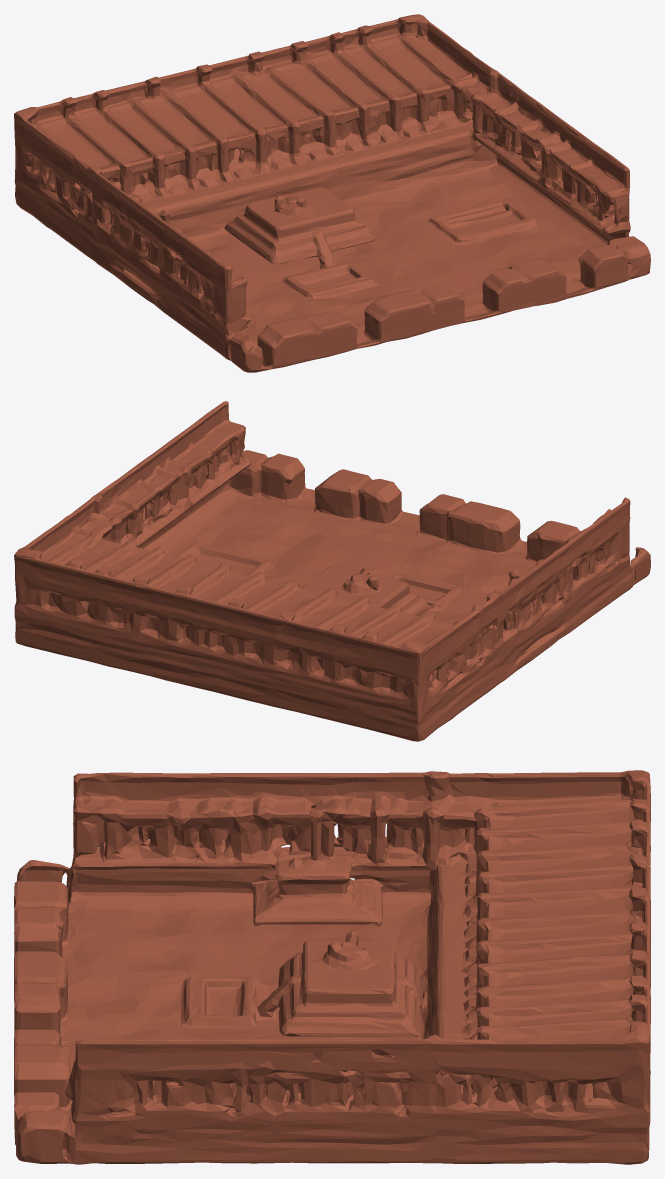
Rendered from Residential Cells.glb.
The picture shows the model from 3 angles, top to bottom: view 1: azimuth 30°, elevation 25°; view 2: azimuth 150°, elevation 25°; view 3: azimuth 270°, elevation 25°; orthographic projection. The views are drawn at different scales.
Visible parts, largest first — view 1: tmpfqf_5vje.ply; view 2: tmpfqf_5vje.ply; view 3: tmpfqf_5vje.ply.
Part boxes in pixels (x1,y1,x2,y2): tmpfqf_5vje.ply: [14, 14, 650, 372]; tmpfqf_5vje.ply: [14, 401, 650, 741]; tmpfqf_5vje.ply: [14, 770, 650, 1164].
Size of the model in its own units: 1.96 by 0.4731 by 1.96.
